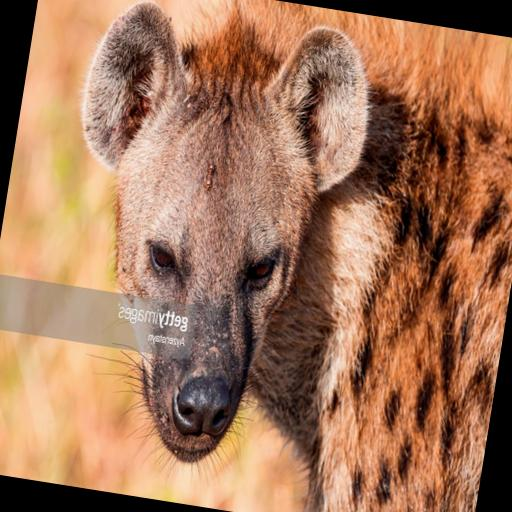hyenas: (74, 0, 512, 512)
